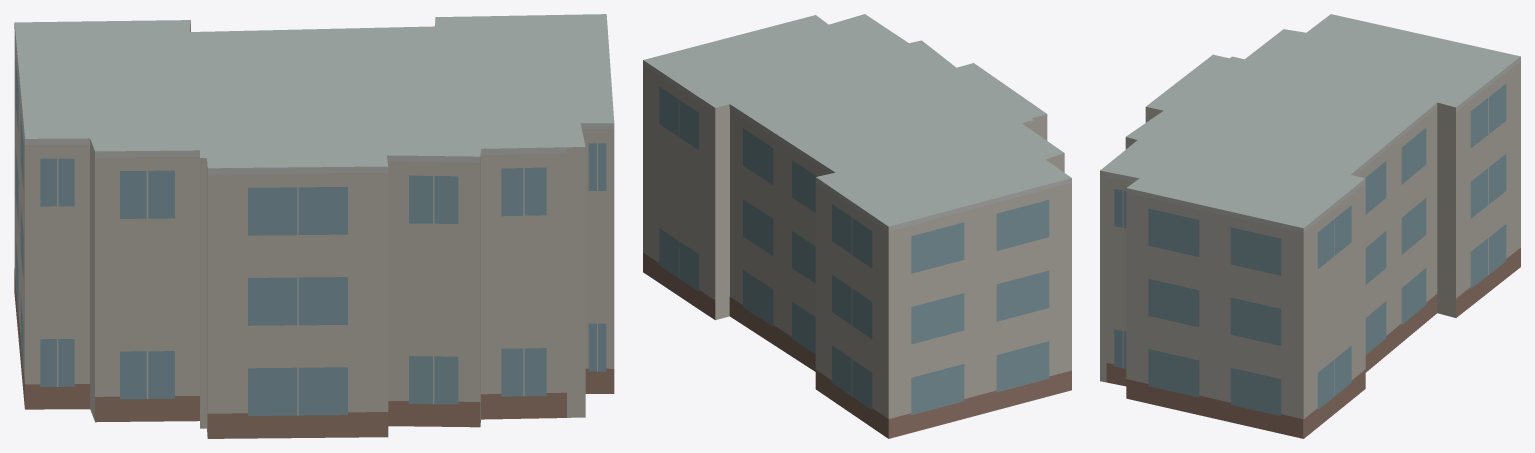
The model's file is survey-upis-32862287.glb.
3 renders of one model, left to right at view 1: azimuth 30°, elevation 25°; view 2: azimuth 150°, elevation 25°; view 3: azimuth 270°, elevation 25°, orthographic. The views are drawn at different scales.
Visible parts, largest first — view 1: survey-upis-32862287.tmp; view 2: survey-upis-32862287.tmp; view 3: survey-upis-32862287.tmp.
Boxes of the visible parts, bbox=[...] form: survey-upis-32862287.tmp: bbox=[14, 14, 614, 438]; survey-upis-32862287.tmp: bbox=[643, 14, 1071, 438]; survey-upis-32862287.tmp: bbox=[1100, 14, 1520, 438].
Bounding box in the file's own units: 23.57 × 10.8 × 19.56.
